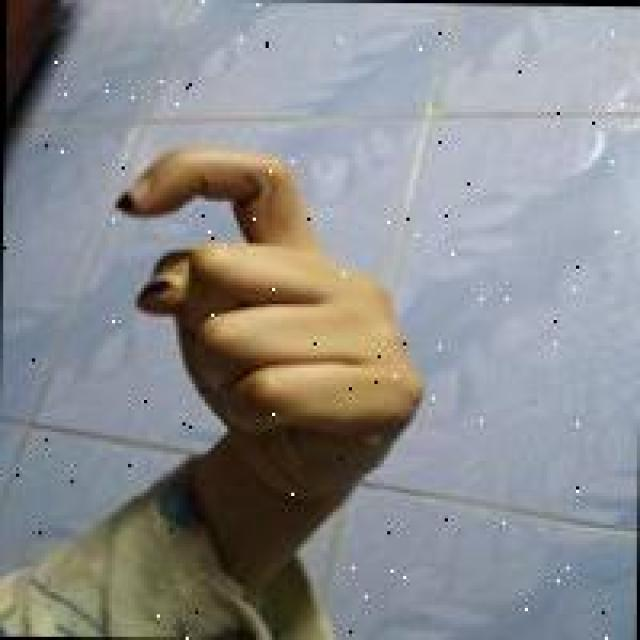X: (88, 139, 430, 546)
